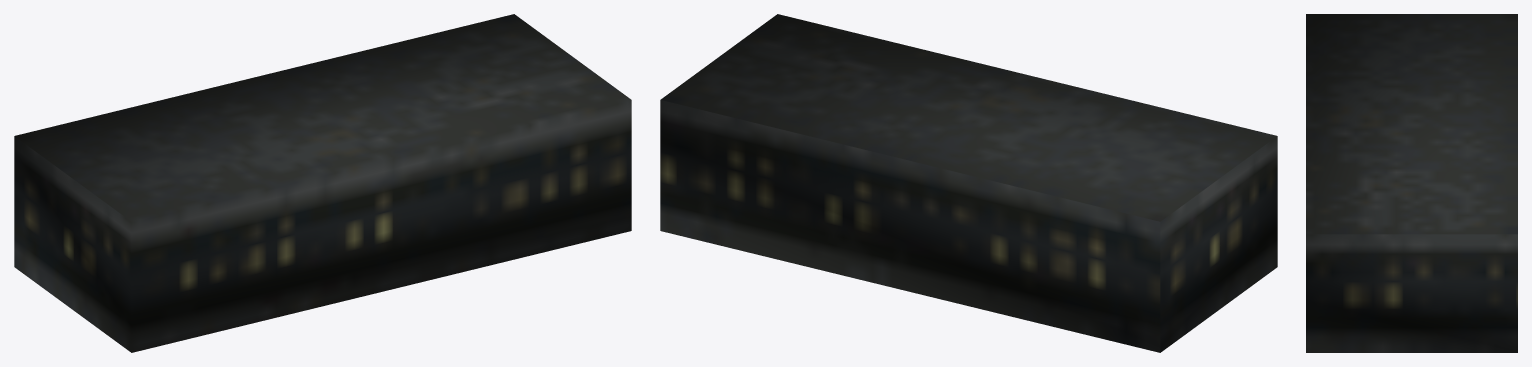
File: building-small.glb
The picture shows the model from 3 angles, left to right: view 1: azimuth 30°, elevation 25°; view 2: azimuth 150°, elevation 25°; view 3: azimuth 270°, elevation 25°; orthographic projection. The views are drawn at different scales.
Parts seen in each view (by area): view 1: Cube.003; view 2: Cube.003; view 3: Cube.003.
Part boxes in pixels (box(x1,y1,x2,y2)): Cube.003: box(14, 14, 631, 352); Cube.003: box(660, 14, 1277, 352); Cube.003: box(1306, 14, 1517, 352).
Bounding box in the file's own units: 76.49 × 19.17 × 31.08.
Materials: 1 (1 with a texture image).
